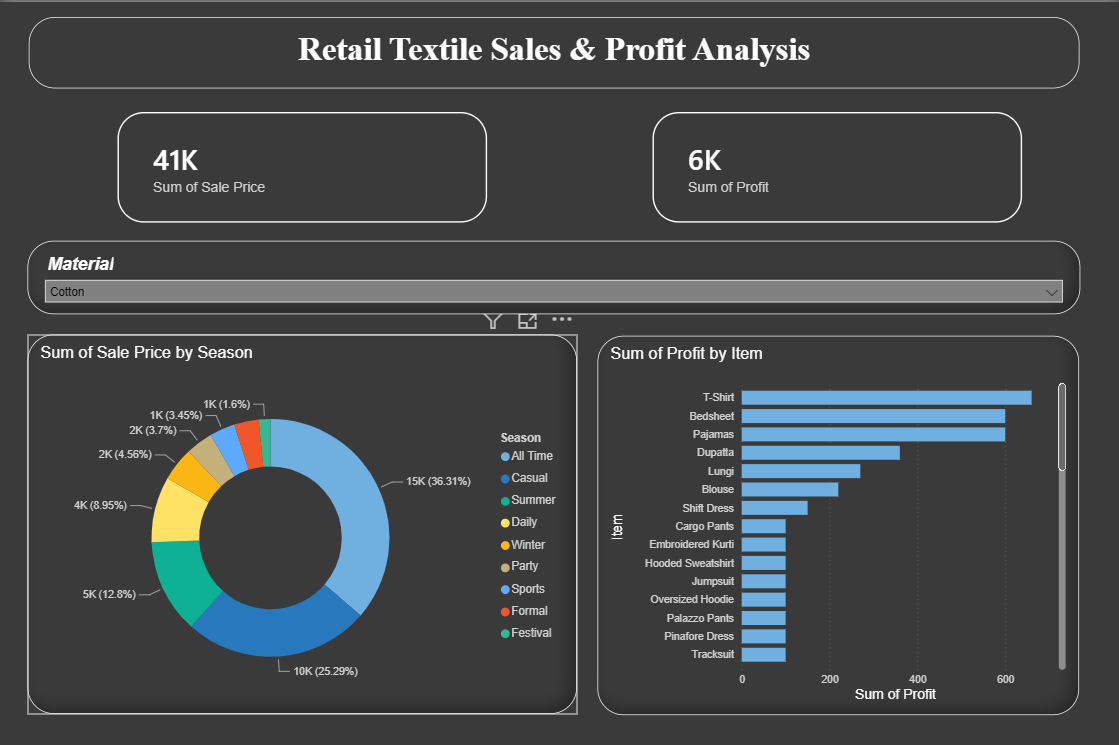

What the dashboard file says about the page in this screenshot:
{"tool":"powerbi","page":{"name":"Page 1","canvas":[1280,850],"ordinal":0},"visuals":[{"type":"textbox","box":[32.6,17.4,1201.2,81.4],"z":0},{"type":"cardVisual","fields":{"Data":["Sum(Textile_data2 txt.Sale Price)"]},"box":[133.8,125,422.5,126.2],"z":1000},{"type":"donutChart","fields":{"Category":["Textile_data2 txt.Season"],"Y":["Sum(Textile_data2 txt.Sale Price)"]},"box":[31.4,380,627.9,433.7],"z":3000},{"type":"clusteredBarChart","fields":{"Category":["Textile_data2 txt.Item"],"Y":["Sum(Textile_data2 txt.Profit)"]},"box":[682.9,381.4,550,433.7],"z":4000},{"type":"slicer","fields":{"Values":["Textile_data2 txt.Material"]},"box":[31.4,272.9,1202.9,84.3],"z":4001},{"type":"cardVisual","fields":{"Data":["Sum(Textile_data2 txt.Profit)"]},"box":[746.2,125,422.5,126.2],"z":4002}]}

Visuals, with their boxes in screenshot pixels (x1, y1, x2, y2), scaled from the page's 1280x850 canvas onto the 1119x745 screenshot:
textbox: crop(28, 15, 1079, 87)
cardVisual - Sum(Textile_data2 txt.Sale Price): crop(117, 110, 486, 220)
donutChart - Textile_data2 txt.Season x Sum(Textile_data2 txt.Sale Price): crop(27, 333, 576, 713)
clusteredBarChart - Textile_data2 txt.Item x Sum(Textile_data2 txt.Profit): crop(597, 334, 1078, 714)
slicer - Textile_data2 txt.Material: crop(27, 239, 1079, 313)
cardVisual - Sum(Textile_data2 txt.Profit): crop(652, 110, 1022, 220)
